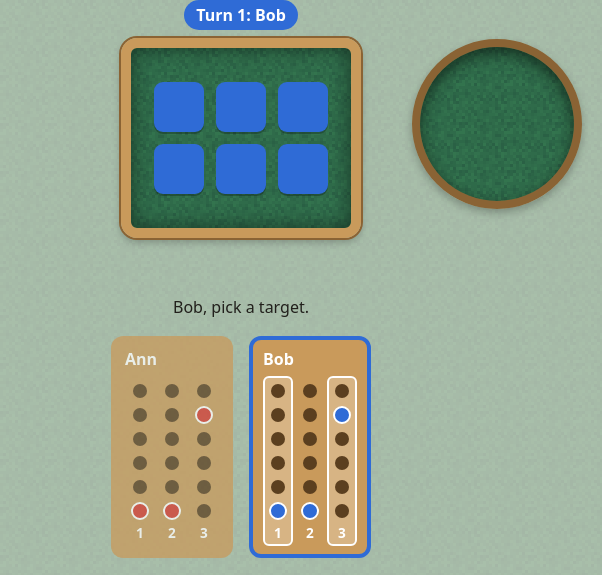
it: says when the server can't be reached
What coordinates should you click on to do the following:
click the 2nd button "1"
I would click on:
 (278, 461)
Its box is [263, 376, 293, 546].
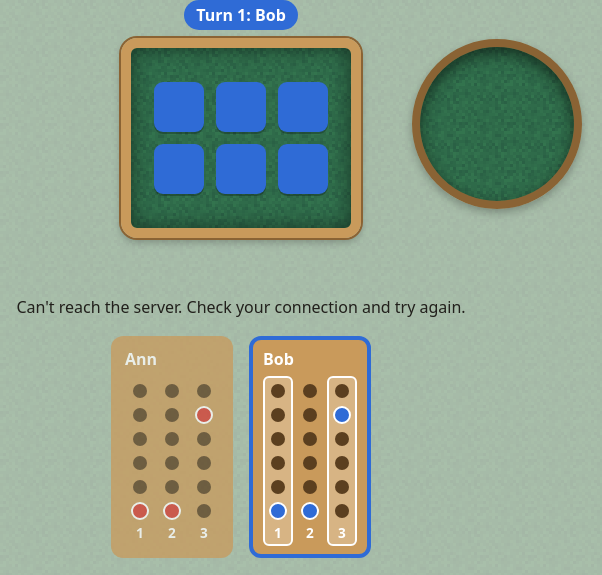
Expected: the text "Can't reach the server. Check your connection and try again." is shown, [16, 296, 466, 318]
